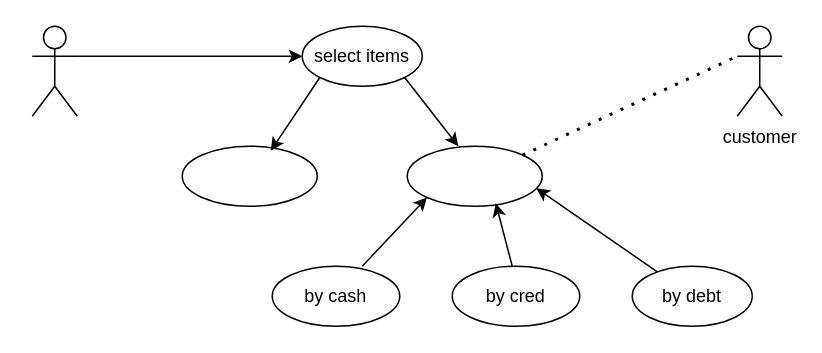
This 822x353 diagram has some shape labels left out. Here are the shapes that lost their labels. From the top down, the centre of each, then its label:
(x=54, y=70): cashier
(x=249, y=175): scan items
(x=474, y=175): payment
